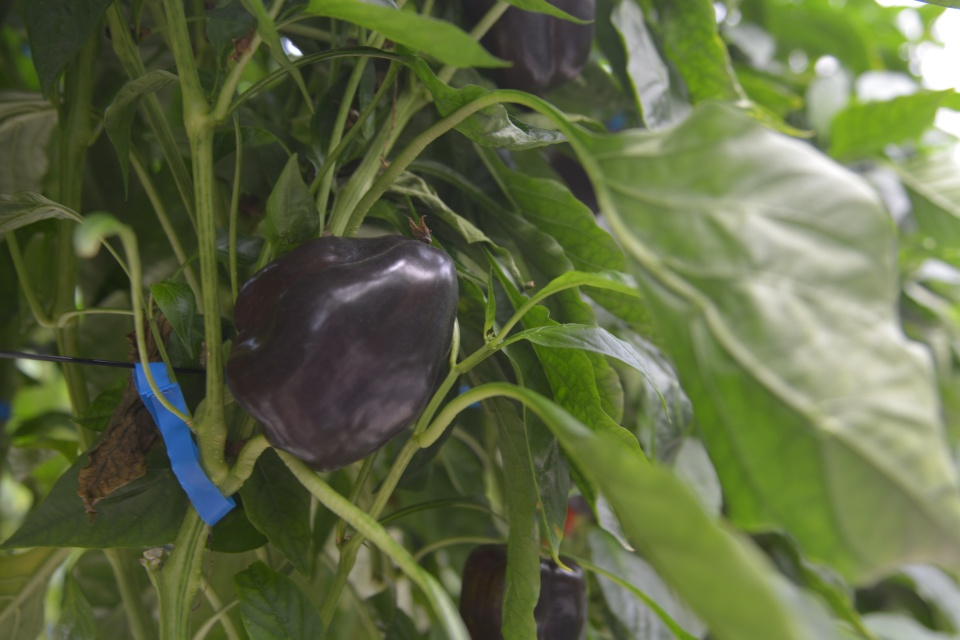fruit: (224, 233, 460, 470), (456, 2, 598, 109), (460, 540, 591, 640)
